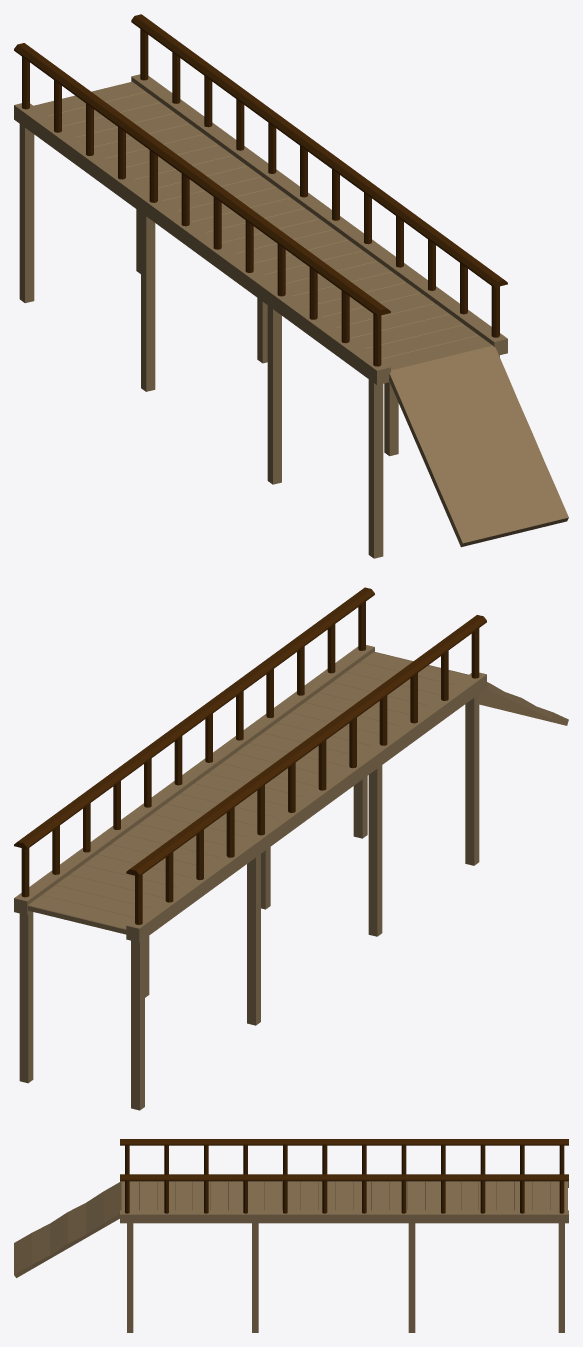
File: bridge.fbx
The picture shows the model from 3 angles, top to bottom: view 1: azimuth 30°, elevation 25°; view 2: azimuth 150°, elevation 25°; view 3: azimuth 270°, elevation 25°; orthographic projection. The views are drawn at different scales.
Parts seen in each view (by area): view 1: Bridge; view 2: Bridge; view 3: Bridge.
Boxes of the visible parts, <box> form: Bridge: <box>14,14,568,558</box>; Bridge: <box>14,587,568,1110</box>; Bridge: <box>14,1139,568,1332</box>.
Bounding box in the file's own units: 373 × 686 × 2211.
